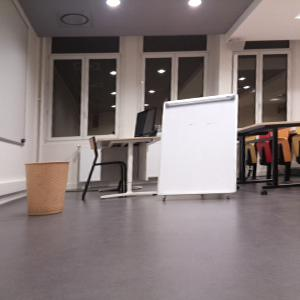big: (161, 95, 239, 196)
medium: (26, 161, 70, 216)
